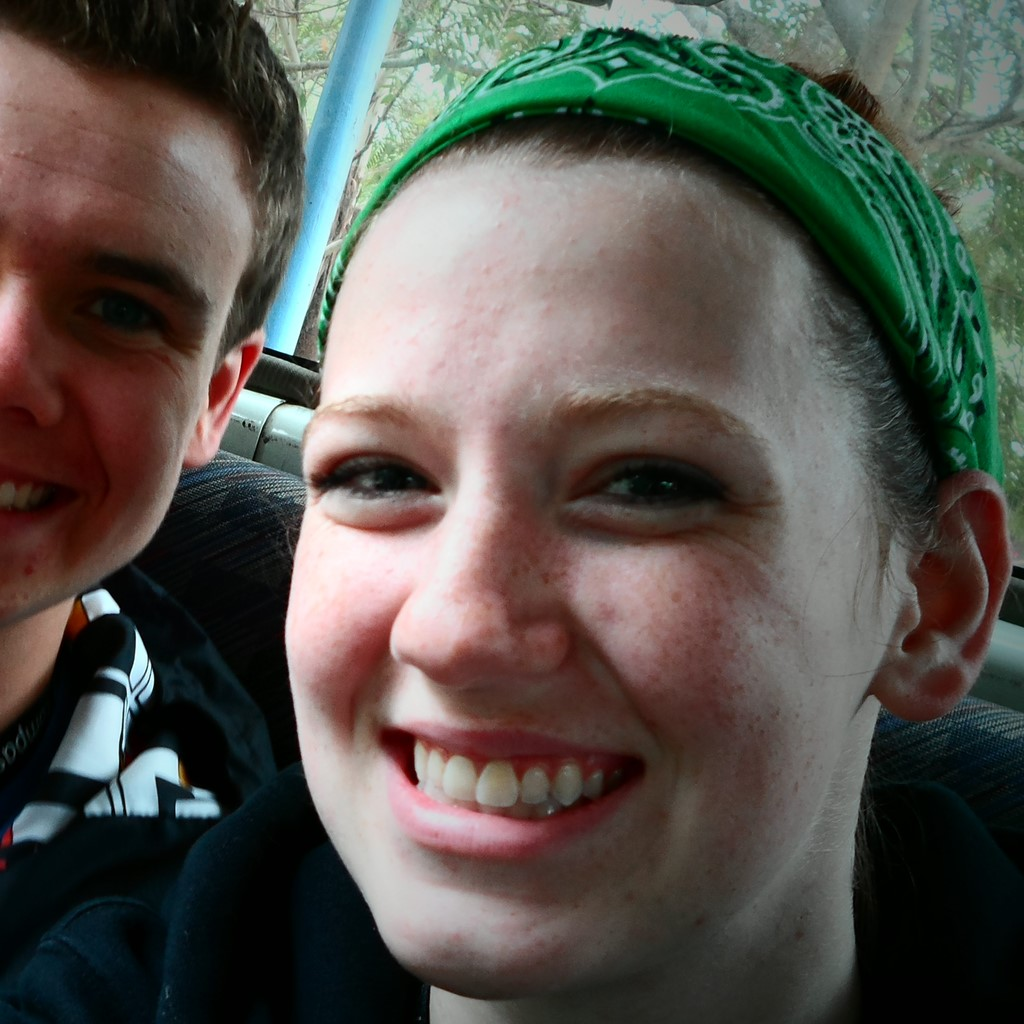sin_mascara: (330, 123, 904, 1000)
